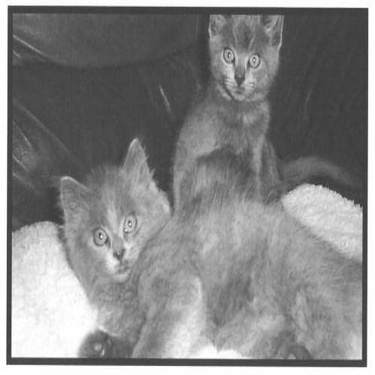cat: (41, 138, 356, 355), (180, 15, 296, 226)
